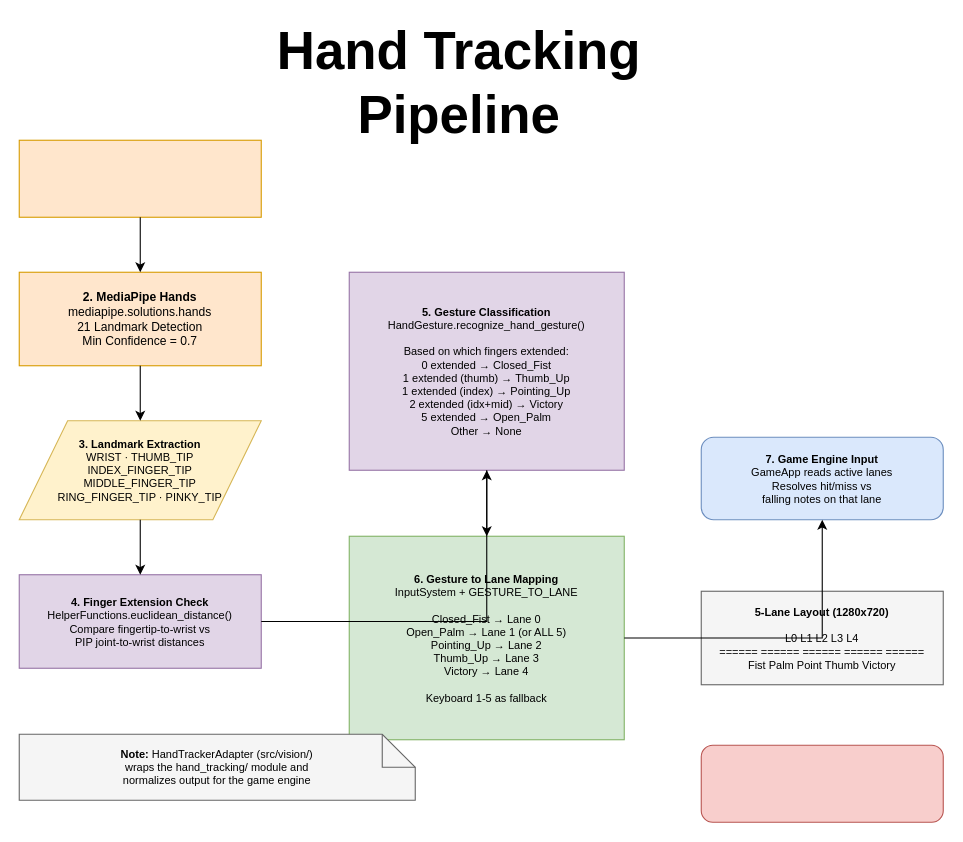
This 963x842 diagram has some shape labels left out. The shapes that lost their labels are listed below. From the top down, each one's centre as x and y in pixels, then its label:
(139,178): 1. Camera Capture cv2.VideoCapture(0) 640x480 @ 30 FPS
(821,783): Timing Windows Perfect = within 60ms Good = within 120ms Miss = beyond 170ms
